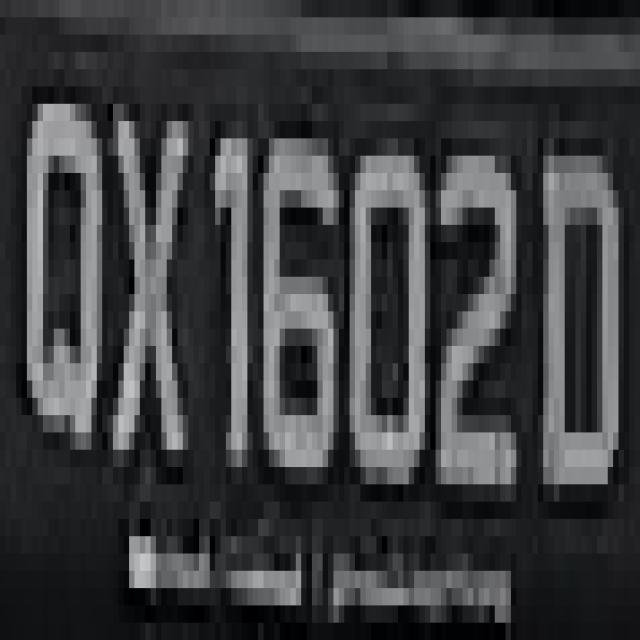0: (344, 86, 436, 554)
1: (204, 35, 269, 484)
2: (425, 87, 532, 622)
6: (253, 121, 333, 536)
D: (538, 121, 634, 502)
Q: (27, 35, 107, 467)
X: (102, 86, 188, 519)
